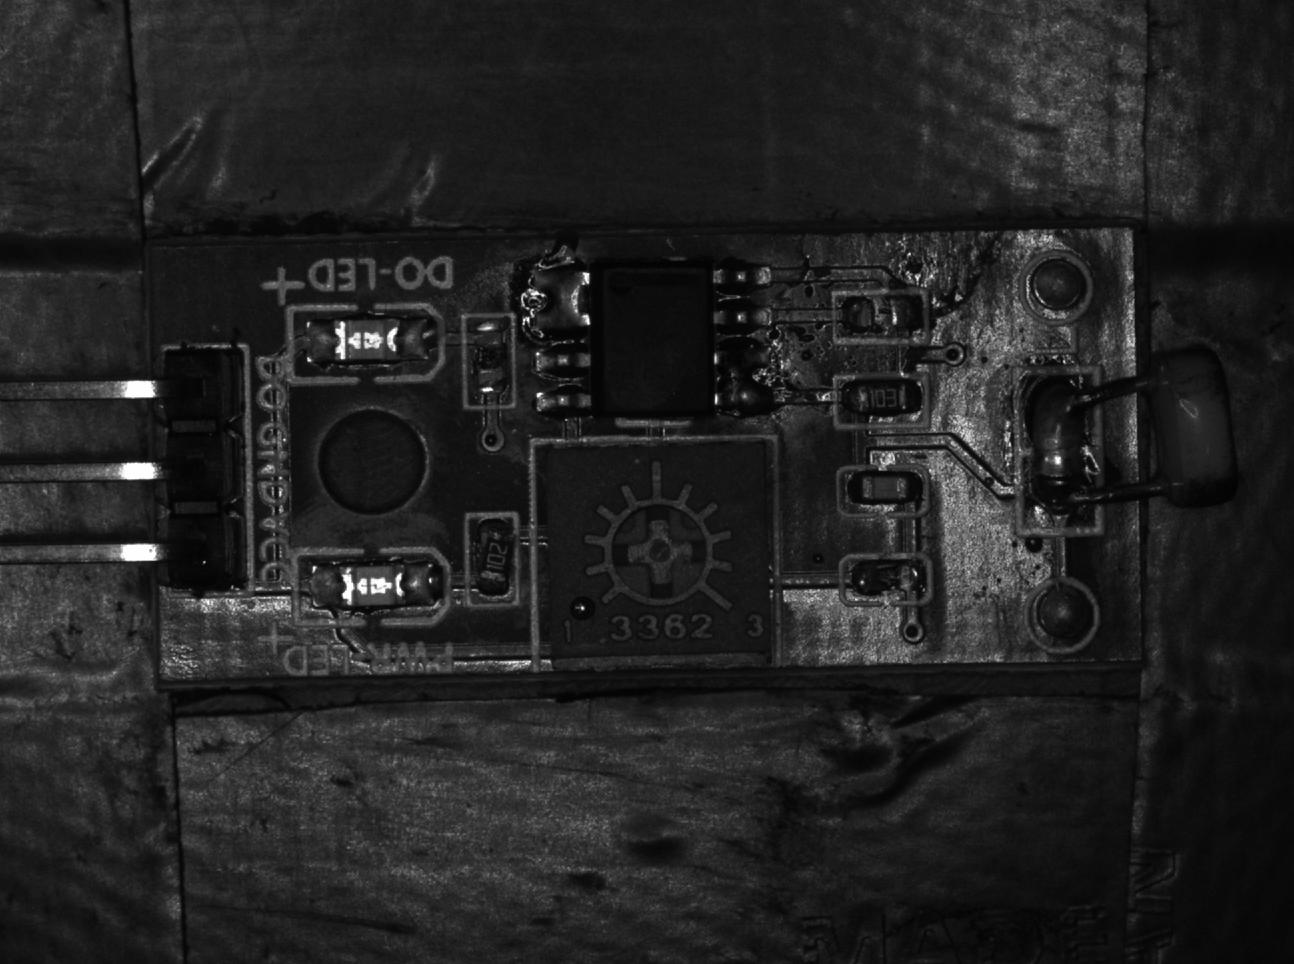bridge: (1010, 370, 1103, 530), (529, 265, 592, 340), (716, 339, 775, 414)
lifted: (465, 512, 522, 605)
miss: (836, 289, 931, 345), (839, 553, 931, 608), (836, 373, 929, 424), (464, 315, 516, 405)
ok: (838, 461, 933, 518)
